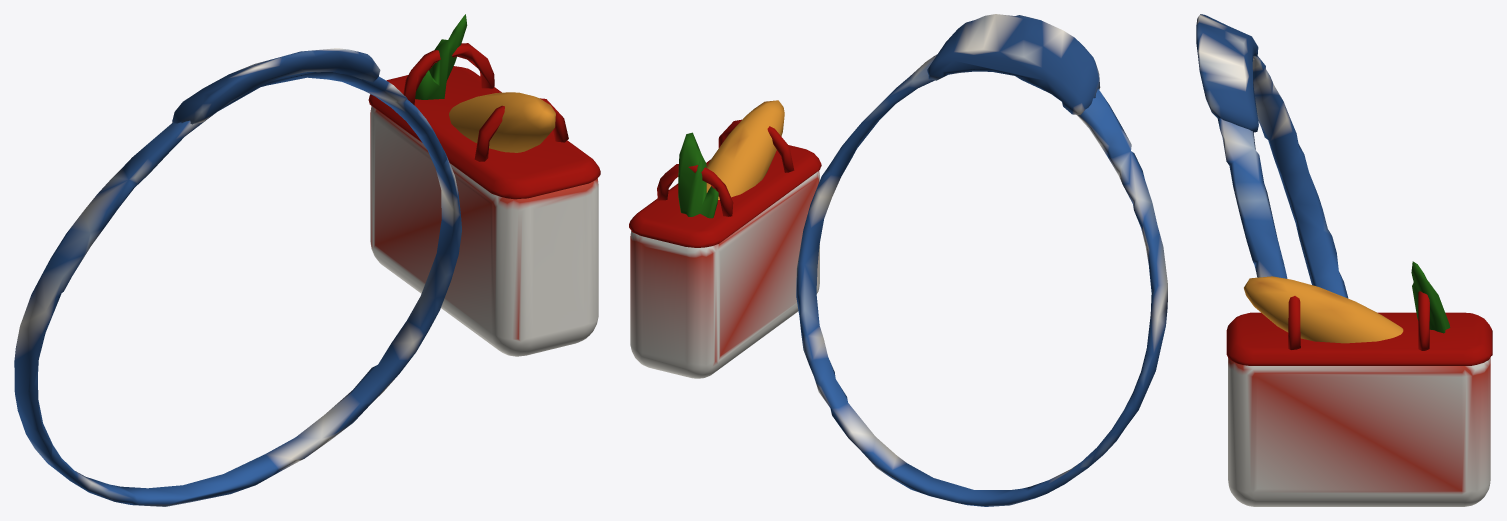
The model's file is giodan.glb.
3 views of the same model, side by side, from view 1: azimuth 30°, elevation 25°; view 2: azimuth 150°, elevation 25°; view 3: azimuth 270°, elevation 25° (orthographic). The views are drawn at different scales.
Parts seen in each view (by area): view 1: Gio_Dan, Quai, Vien_Boc, Dem_Vai, Banh, Quai_Xach, Rau_Hanh; view 2: Gio_Dan, Quai, Dem_Vai, Vien_Boc, Banh, Rau_Hanh, Quai_Xach; view 3: Gio_Dan, Quai, Vien_Boc, Banh, Dem_Vai, Quai_Xach, Rau_Hanh.
Part boxes in pixels (x1=…): Gio_Dan: x1=370, y1=106, x2=598, y2=356; Quai: x1=14, y1=72, x2=461, y2=506; Vien_Boc: x1=368, y1=66, x2=600, y2=199; Dem_Vai: x1=172, y1=48, x2=380, y2=124; Banh: x1=449, y1=92, x2=555, y2=152; Quai_Xach: x1=403, y1=43, x2=568, y2=161; Rau_Hanh: x1=415, y1=14, x2=467, y2=99; Gio_Dan: x1=630, y1=171, x2=819, y2=378; Quai: x1=796, y1=54, x2=1167, y2=506; Dem_Vai: x1=927, y1=14, x2=1100, y2=114; Vien_Boc: x1=629, y1=145, x2=821, y2=247; Banh: x1=706, y1=100, x2=784, y2=199; Rau_Hanh: x1=678, y1=132, x2=718, y2=218; Quai_Xach: x1=657, y1=119, x2=794, y2=216; Gio_Dan: x1=1228, y1=357, x2=1490, y2=506; Quai: x1=1217, y1=56, x2=1348, y2=298; Vien_Boc: x1=1226, y1=312, x2=1492, y2=365; Banh: x1=1244, y1=276, x2=1403, y2=343; Dem_Vai: x1=1196, y1=14, x2=1258, y2=132; Quai_Xach: x1=1288, y1=291, x2=1429, y2=350; Rau_Hanh: x1=1411, y1=261, x2=1450, y2=333.
Size of the model in its own units: 0.3032 by 0.2708 by 0.1597.
